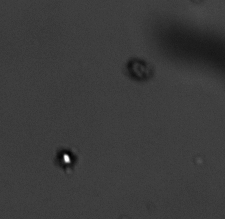Dead Cell: (124, 57, 155, 82)
Living Cell: (53, 145, 81, 169)
